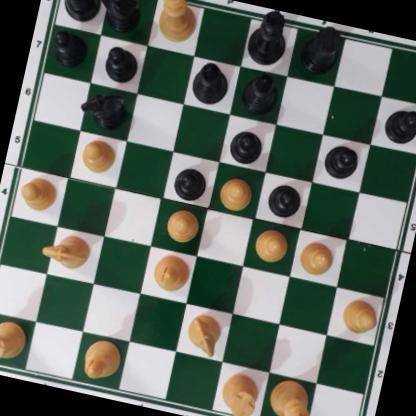black-bishop: (188, 59, 233, 107), (238, 70, 283, 117)
black-king: (245, 7, 294, 70)
black-knight: (80, 86, 129, 132), (90, 0, 147, 36)
black-pawn: (49, 27, 91, 69), (226, 124, 267, 166), (322, 141, 363, 182), (102, 42, 140, 85), (265, 179, 304, 220), (171, 162, 210, 203), (381, 104, 416, 148)
black-rook: (296, 22, 346, 78), (51, 0, 110, 26)
white-bishop: (80, 335, 123, 384), (150, 251, 193, 293)
white-king: (264, 374, 317, 416)
white-knight: (38, 228, 95, 273), (183, 310, 227, 359)
white-pawn: (337, 294, 381, 338), (296, 235, 338, 279), (16, 171, 60, 213), (78, 135, 119, 176), (251, 224, 291, 265), (214, 173, 256, 212), (163, 205, 202, 245)
white-queen: (154, 0, 202, 48)
white-rook: (217, 371, 263, 416), (0, 314, 31, 366)
